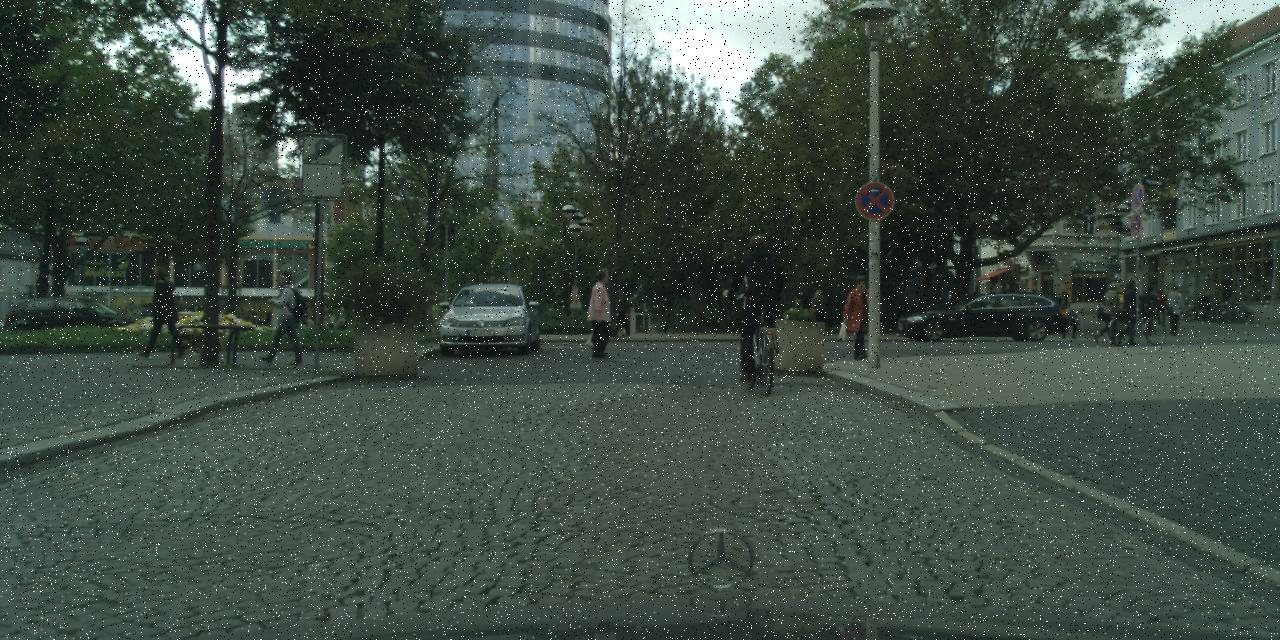ped: (732, 234, 784, 364), (142, 266, 180, 356), (264, 272, 300, 362), (583, 268, 619, 358), (843, 276, 877, 358), (1114, 278, 1140, 342), (1097, 283, 1122, 343), (1162, 284, 1184, 336), (610, 286, 630, 336), (809, 289, 829, 337), (1138, 286, 1157, 333), (188, 296, 205, 338), (174, 300, 190, 338), (1152, 289, 1166, 322), (1198, 290, 1210, 320), (335, 313, 346, 342), (1058, 292, 1068, 315), (1050, 292, 1058, 313)
